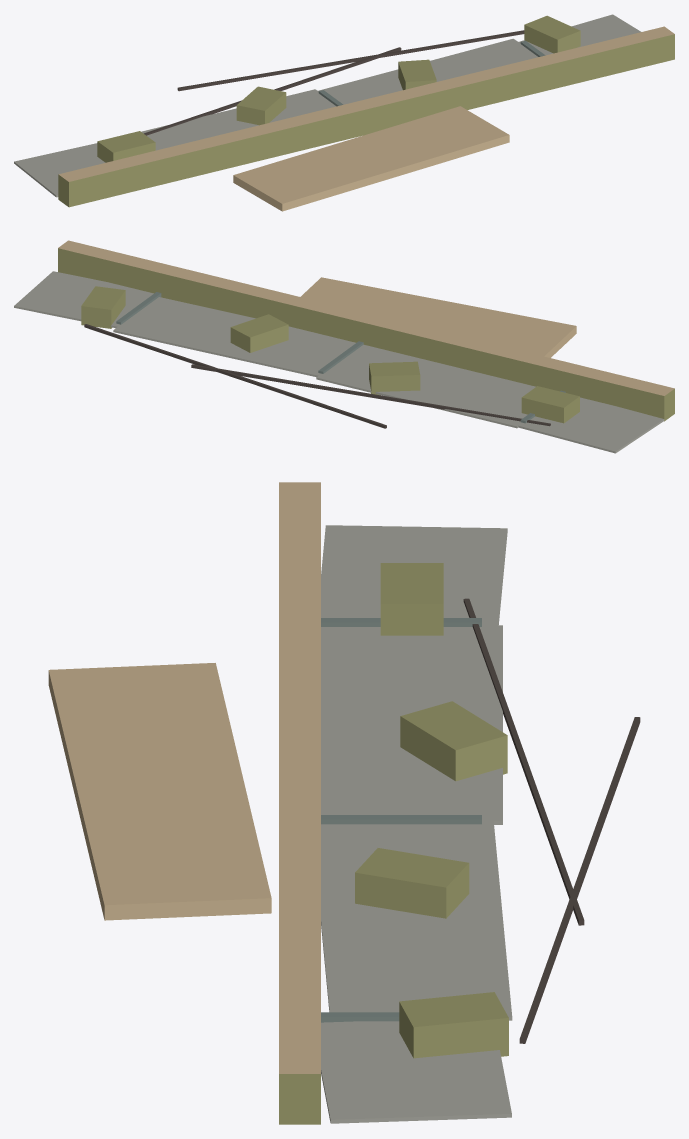
File: SM_VallaBetera_MuroBajo_e4_Brecha_LOD0.fbx
The picture shows the model from 3 angles, top to bottom: view 1: azimuth 30°, elevation 25°; view 2: azimuth 150°, elevation 25°; view 3: azimuth 270°, elevation 25°; orthographic projection. The views are drawn at different scales.
Visible parts, largest first — view 1: SM_valla_estados_v9_LOD0; view 2: SM_valla_estados_v9_LOD0; view 3: SM_valla_estados_v9_LOD0.
Boxes of the visible parts, bbox=[...] form: SM_valla_estados_v9_LOD0: bbox=[14, 14, 674, 211]; SM_valla_estados_v9_LOD0: bbox=[14, 240, 674, 453]; SM_valla_estados_v9_LOD0: bbox=[48, 482, 640, 1124].
Size of the model in its own units: 10.05 by 0.4 by 4.23.
